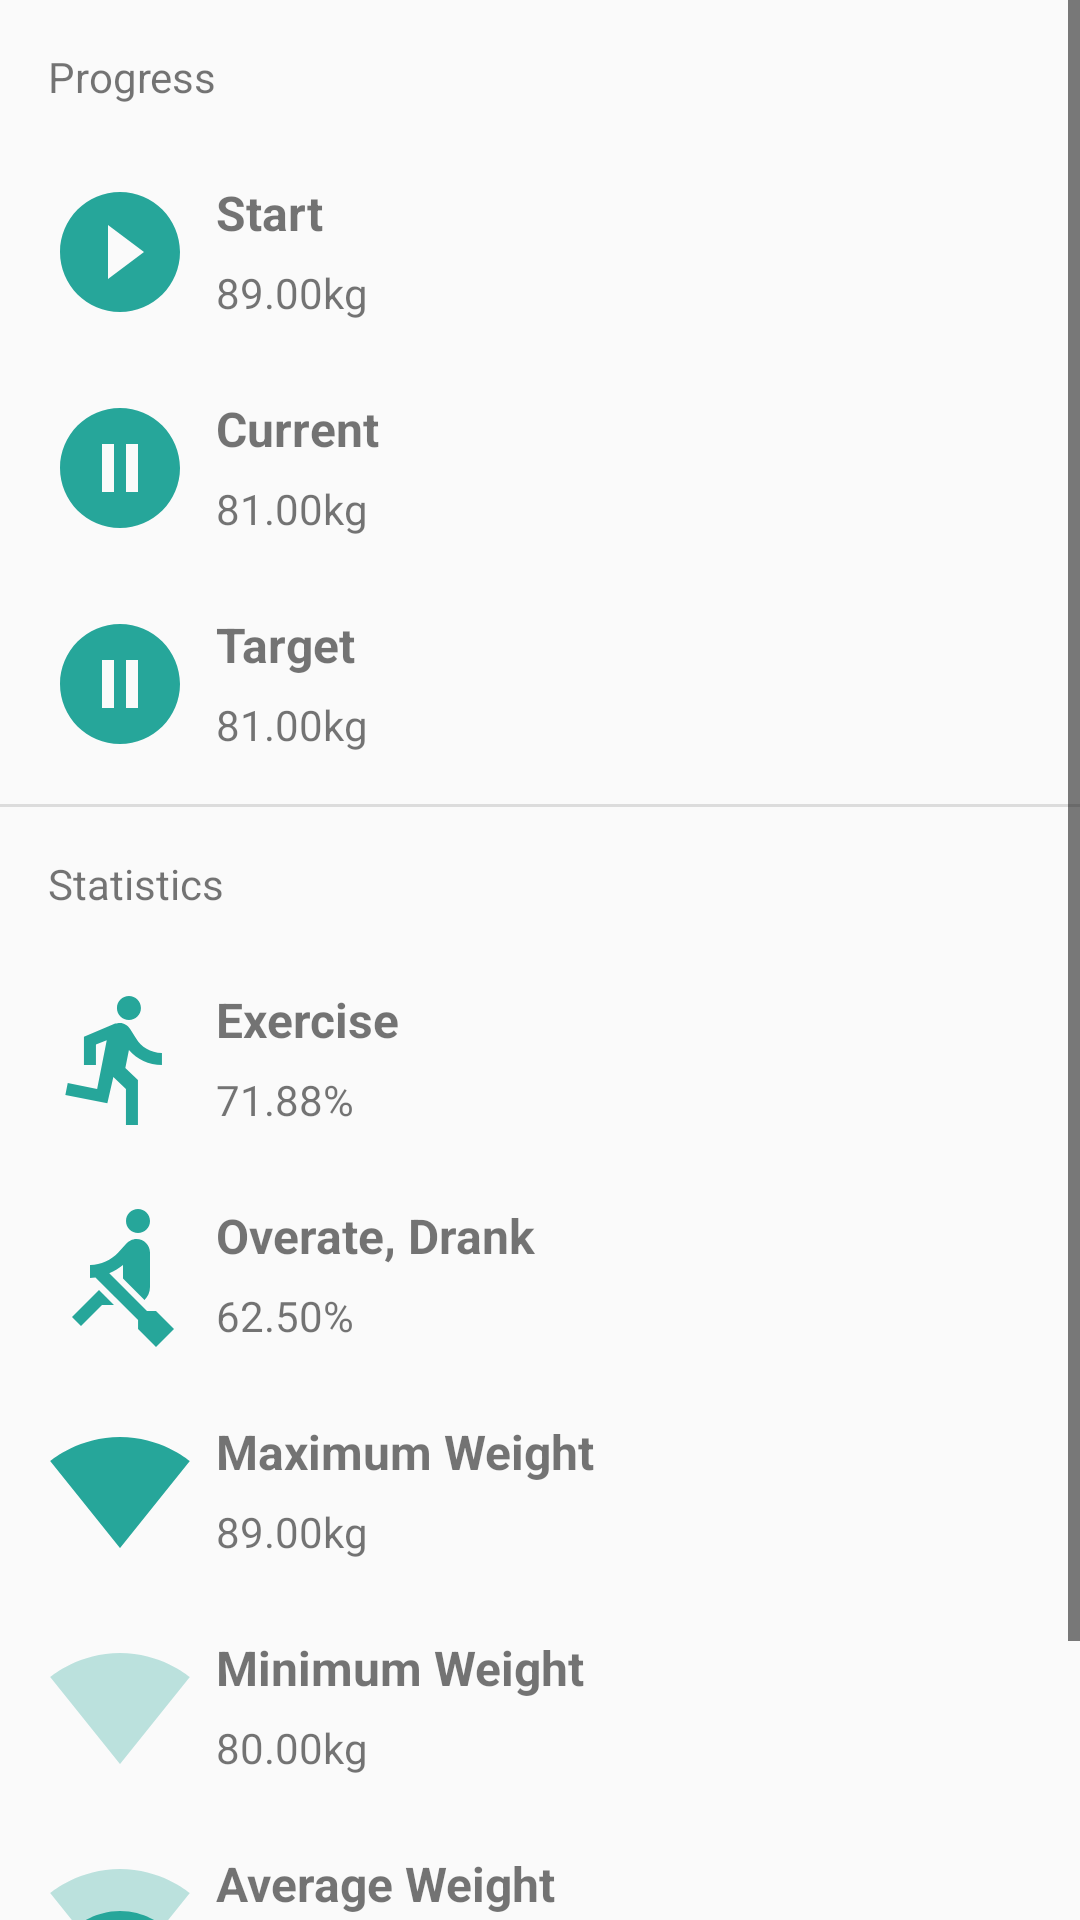

Where icons sit on this 1080 x 1920 app screen, as (x1, y1, x2, y2):
running: (65, 996, 162, 1125)
